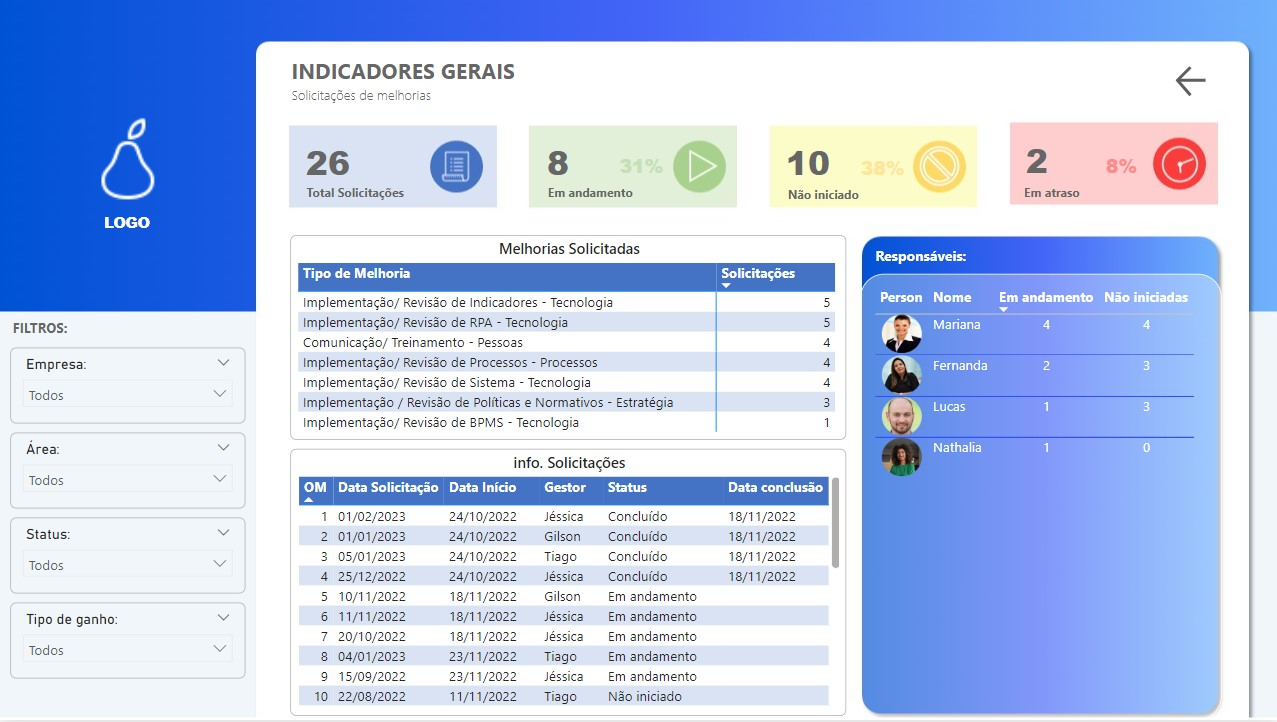

What the dashboard file says about the page in this screenshot:
{"tool":"powerbi","page":{"name":"Page2","canvas":[1280,720],"ordinal":1},"visuals":[{"type":"image","box":[60,110,137.5,98],"z":0,"group":"g1"},{"type":"card","fields":{"Values":["_Medidas.mTotalMelhoria"]},"box":[290.7,136.6,76,53.1],"z":0},{"type":"textbox","box":[302.7,177.3,173.7,32.6],"z":1000},{"type":"textbox","box":[87.8,208,80.5,43.2],"z":1000,"group":"g1"},{"type":"card","fields":{"Values":["_Medidas.mTotalMelhoria"]},"box":[520.8,136.3,76,53.1],"z":2000},{"type":"textbox","box":[543.7,177.3,173.7,32.6],"z":3000},{"type":"card","fields":{"Values":["_Medidas.mTotalMelhoria"]},"box":[771.9,129,76,67.5],"z":4000},{"type":"textbox","box":[783.9,179.7,173.7,32.6],"z":5000},{"type":"card","fields":{"Values":["_Medidas.mTotalMelhoria"]},"box":[1004.6,136.3,66.3,49.4],"z":6000},{"type":"textbox","box":[1020.3,177.3,173.7,32.6],"z":7000},{"type":"textbox","box":[287.5,50.9,250,42.5],"z":8000},{"type":"textbox","box":[287.5,80.9,250,32.5],"z":9000},{"type":"slicer","fields":{"Values":["dEmpresa.Empresa"]},"box":[11.2,347.5,235,76.2],"z":10000},{"type":"slicer","fields":{"Values":["dArea.Área"]},"box":[11.2,432.5,235,76.2],"z":11000},{"type":"slicer","fields":{"Values":["dStatus.Status"]},"box":[11.2,517.5,235,76.2],"z":12000},{"type":"slicer","fields":{"Values":["dTipoGanho.Tipo de ganho"]},"box":[11.2,602.5,235,76.2],"z":13000},{"type":"textbox","box":[8.8,313.8,85,30],"z":14000},{"type":"tableEx","fields":{"Values":["Min(dResponsavel.src_img)","dResponsavel.Pessoa Responsável - GS","_Medidas.Medida","_Medidas.mSolicitaçõesNãoIniciadas"]},"box":[861.2,273.8,361.2,446.2],"z":15000},{"type":"pivotTable","title":"Melhorias Solicitadas","fields":{"Rows":["dMelhoria.Tipo de Melhoria"],"Values":["_Medidas.mTotalSolicitações"]},"box":[291.2,235,556.2,205],"z":16000},{"type":"tableEx","title":"info. Solicitações","fields":{"Values":["Backlog.ID da OM","Min(Backlog.Data da solicitação)","Min(Backlog.Data real de Início)","Max(Backlog.Gestor Responsável)","dStatus.Status","Backlog.Data real de conclusão"]},"box":[291.2,448.8,556.2,267.5],"z":17000},{"type":"textbox","box":[871.2,241.2,266.2,32.5],"z":18000},{"type":"actionButton","box":[1172.5,61.2,100,40],"z":19000},{"type":"group","id":"g1","title":"Grupo 1","box":[60,110,137.5,141.2],"z":20000},{"type":"card","fields":{"Values":["_Medidas.% Em Andamento"]},"box":[602.5,136.2,80,63.8],"z":21000},{"type":"card","fields":{"Values":["_Medidas.% Não iniciado"]},"box":[843.8,137.5,80,63.8],"z":22000},{"type":"card","fields":{"Values":["_Medidas.% Em Atraso"]},"box":[1082.5,136.2,80,63.8],"z":23000}]}

Visuals, with their boxes in screenshot pixels (x1, y1, x2, y2), scaled from the page's 1280x720 canvas onto the 1277x722 screenshot:
image: <region>60, 110, 197, 209</region>
card - _Medidas.mTotalMelhoria: <region>290, 137, 366, 190</region>
textbox: <region>302, 178, 475, 210</region>
textbox: <region>88, 209, 168, 252</region>
card - _Medidas.mTotalMelhoria: <region>520, 137, 595, 190</region>
textbox: <region>542, 178, 716, 210</region>
card - _Medidas.mTotalMelhoria: <region>770, 129, 846, 197</region>
textbox: <region>782, 180, 955, 213</region>
card - _Medidas.mTotalMelhoria: <region>1002, 137, 1068, 186</region>
textbox: <region>1018, 178, 1191, 210</region>
textbox: <region>287, 51, 536, 94</region>
textbox: <region>287, 81, 536, 114</region>
slicer - dEmpresa.Empresa: <region>11, 348, 246, 425</region>
slicer - dArea.Área: <region>11, 434, 246, 510</region>
slicer - dStatus.Status: <region>11, 519, 246, 595</region>
slicer - dTipoGanho.Tipo de ganho: <region>11, 604, 246, 681</region>
textbox: <region>9, 315, 94, 345</region>
tableEx - Min(dResponsavel.src_img) x dResponsavel.Pessoa Responsável - GS: <region>859, 275, 1220, 721</region>
"Melhorias Solicitadas" pivotTable: <region>291, 236, 845, 441</region>
"info. Solicitações" tableEx: <region>291, 450, 845, 718</region>
textbox: <region>869, 242, 1135, 274</region>
actionButton: <region>1170, 61, 1270, 101</region>
"Grupo 1" group: <region>60, 110, 197, 252</region>
card - _Medidas.% Em Andamento: <region>601, 137, 681, 201</region>
card - _Medidas.% Não iniciado: <region>842, 138, 922, 202</region>
card - _Medidas.% Em Atraso: <region>1080, 137, 1160, 201</region>
